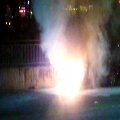fire: (53, 55, 84, 97)
